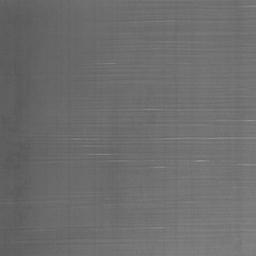Waist folding: (144, 4, 256, 42), (143, 107, 256, 141), (89, 152, 256, 170), (58, 226, 164, 243), (203, 224, 256, 231), (0, 201, 31, 206), (73, 137, 95, 141)
